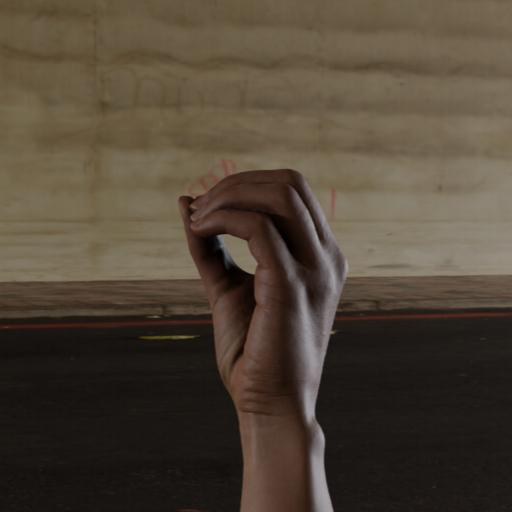O: (177, 164, 350, 416)
